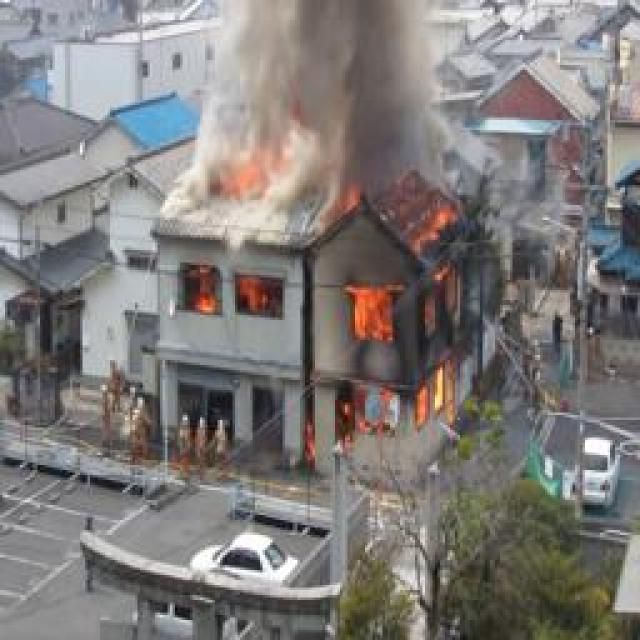Fire: (335, 185, 463, 460), (178, 270, 283, 322)
